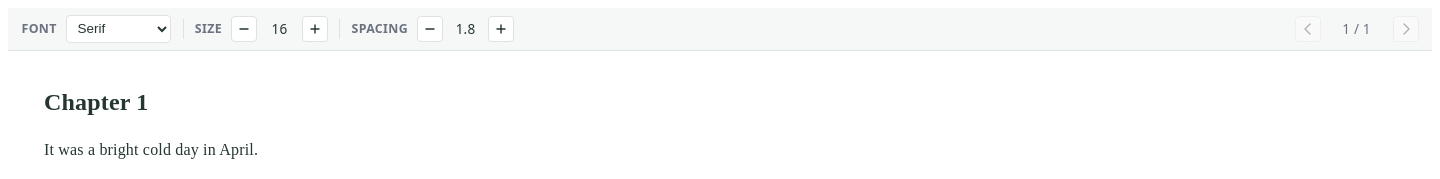
it: EpubReader › increases font size
The width and height of the screenshot is (1440, 179).
Click the button named "Increase font size" at (315, 29), box left=302, top=16, right=328, bottom=42
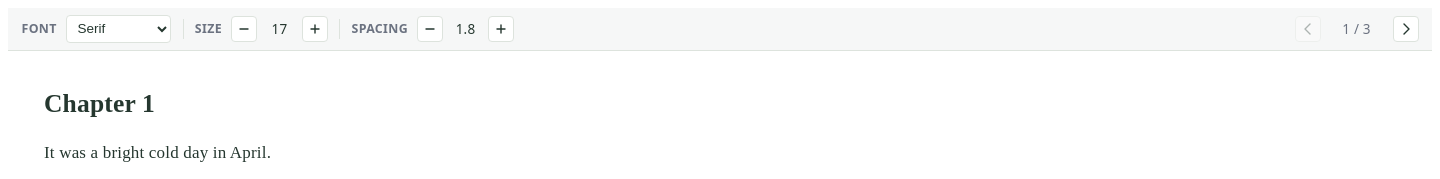
Check: the text named "Font size" reads "17", box left=272, top=20, right=287, bottom=38
